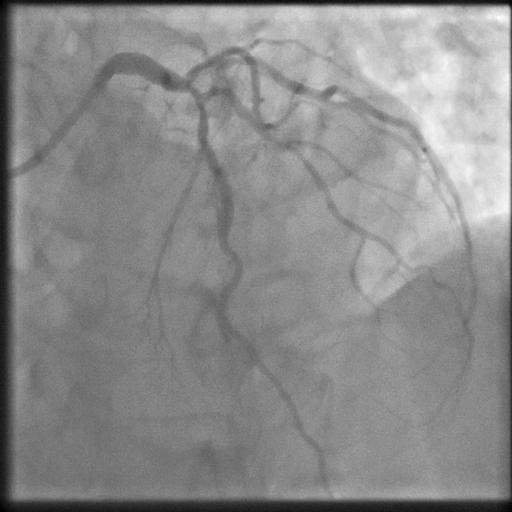Stenosis: (181, 82, 206, 121)
